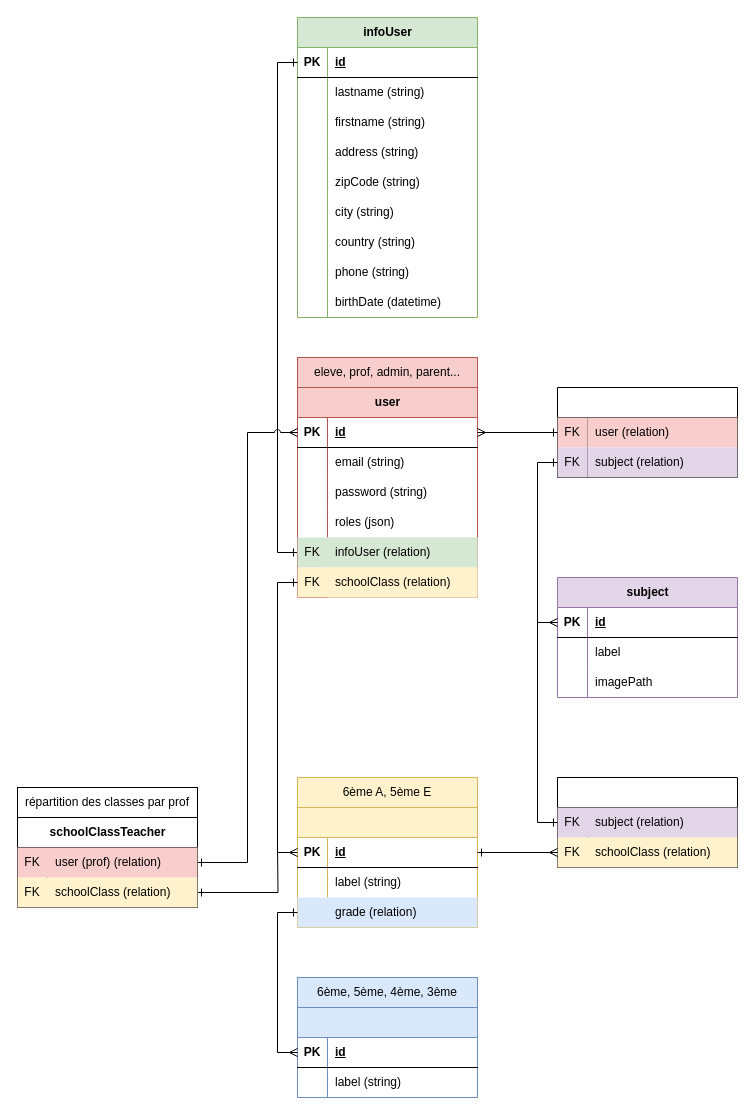
Image size: 755x1115. Some labels were removed from this diagram. Here are the shapes that lost their labels. From the top down, the box of each, then its label:
(556, 386, 738, 478): userSubject
(556, 776, 738, 868): schoolClassSubject
(296, 806, 478, 928): schoolClass
(296, 1006, 478, 1098): grade
